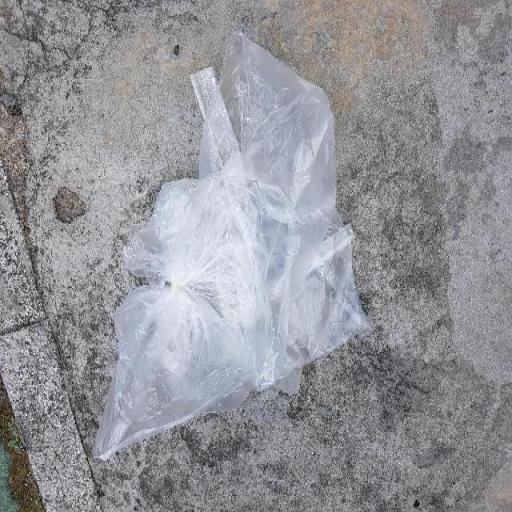plastic-bag: (90, 30, 374, 464)
